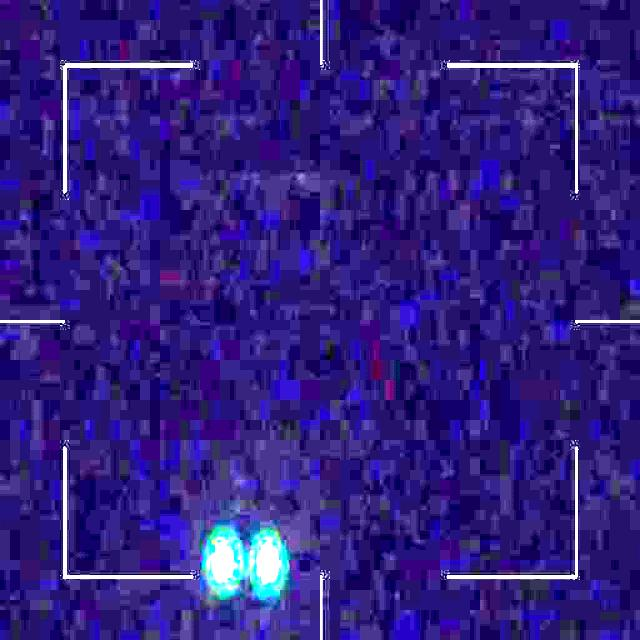bird: (208, 534, 281, 586)
